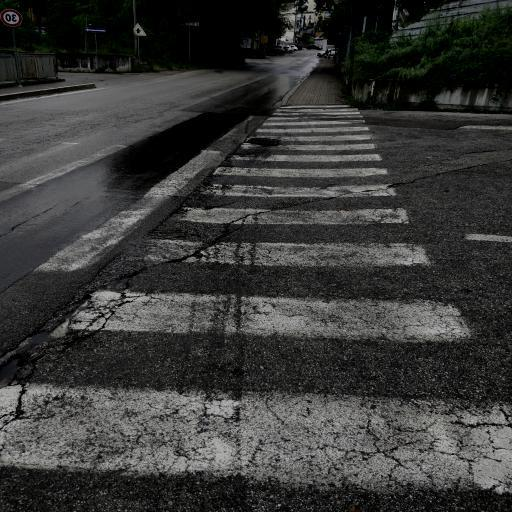crosswalk: (54, 228, 468, 358), (203, 152, 398, 182)
